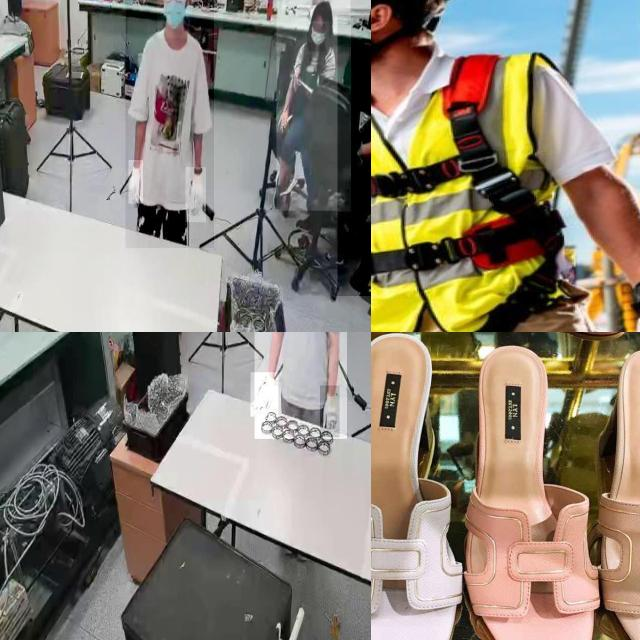Harness: (371, 52, 565, 276)
Sandals: (458, 332, 614, 640), (371, 332, 476, 640), (586, 332, 640, 640)
face_mask: (156, 0, 189, 38), (307, 24, 325, 52)
hand_glove: (251, 372, 279, 418), (186, 167, 207, 223), (320, 386, 340, 438), (128, 160, 144, 204)
hand_noglove: (276, 107, 290, 133)
head_nohelmet: (309, 0, 332, 21)
person: (125, 0, 214, 249), (276, 0, 351, 211), (254, 332, 347, 439), (337, 15, 371, 297)
